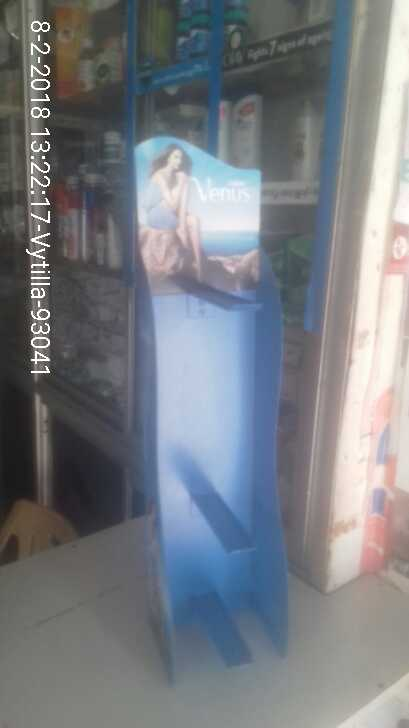reject: (144, 217, 292, 357)
